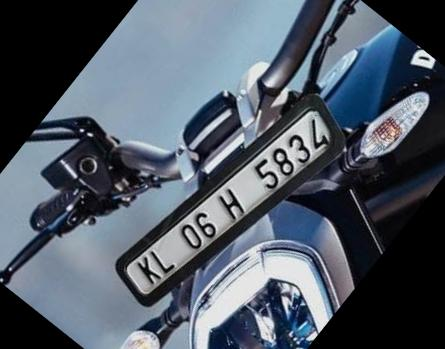plate: (96, 47, 364, 344)
